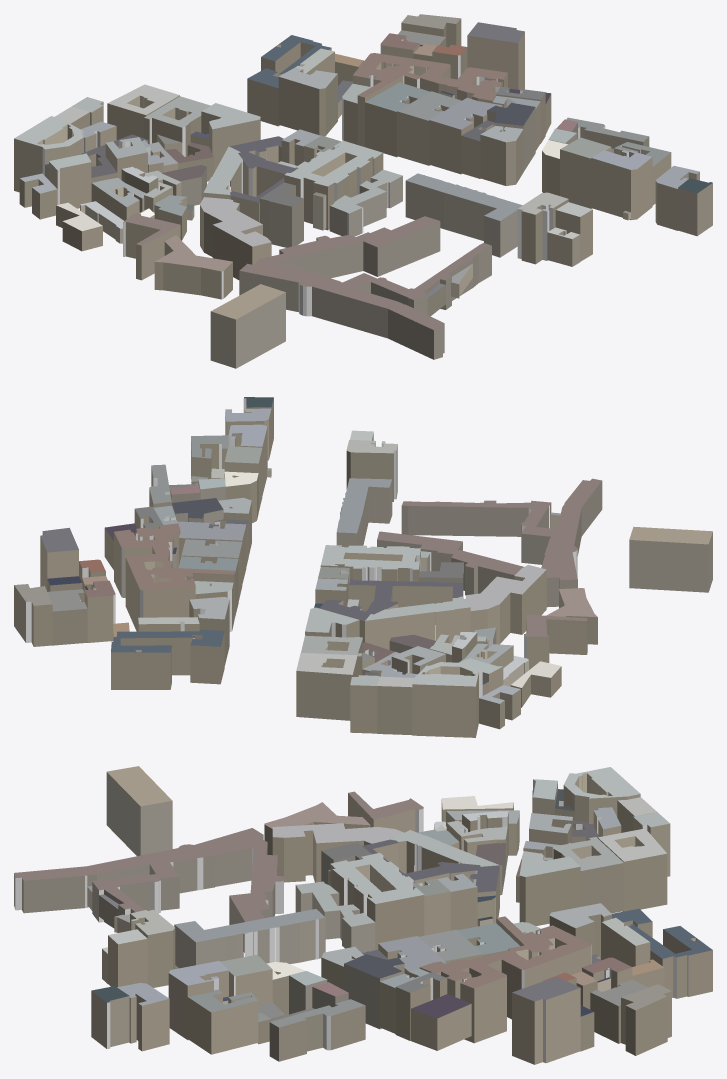
The picture shows the model from 3 angles, top to bottom: view 1: azimuth 30°, elevation 25°; view 2: azimuth 150°, elevation 25°; view 3: azimuth 270°, elevation 25°; orthographic projection. The views are drawn at different scales.
Parts seen in each view (by area): view 1: tuile; view 2: tuile; view 3: tuile.
Part boxes in pixels (<box>): tuile: <box>14,14,712,368</box>; tuile: <box>14,397,712,737</box>; tuile: <box>14,766,712,1064</box>.
Size of the model in its own units: 274 by 38.89 by 303.
